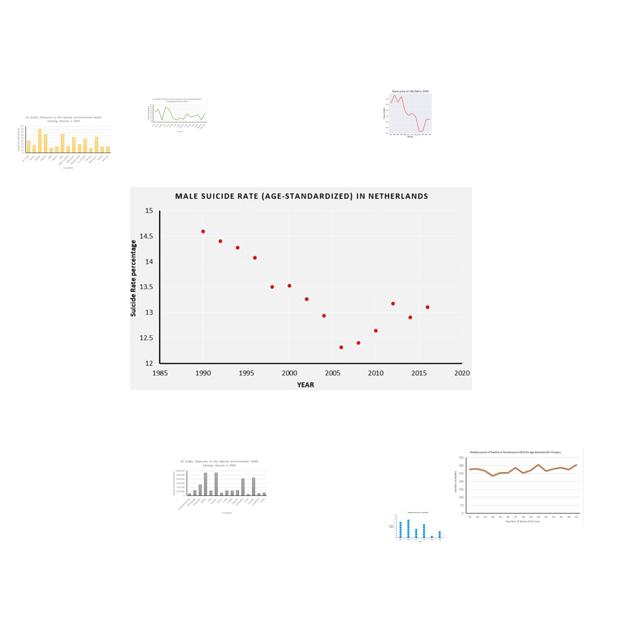Graph: (130, 187, 472, 390), (451, 448, 584, 527), (169, 458, 269, 516), (15, 114, 113, 171), (375, 87, 444, 139), (146, 97, 208, 133), (387, 510, 445, 544)
